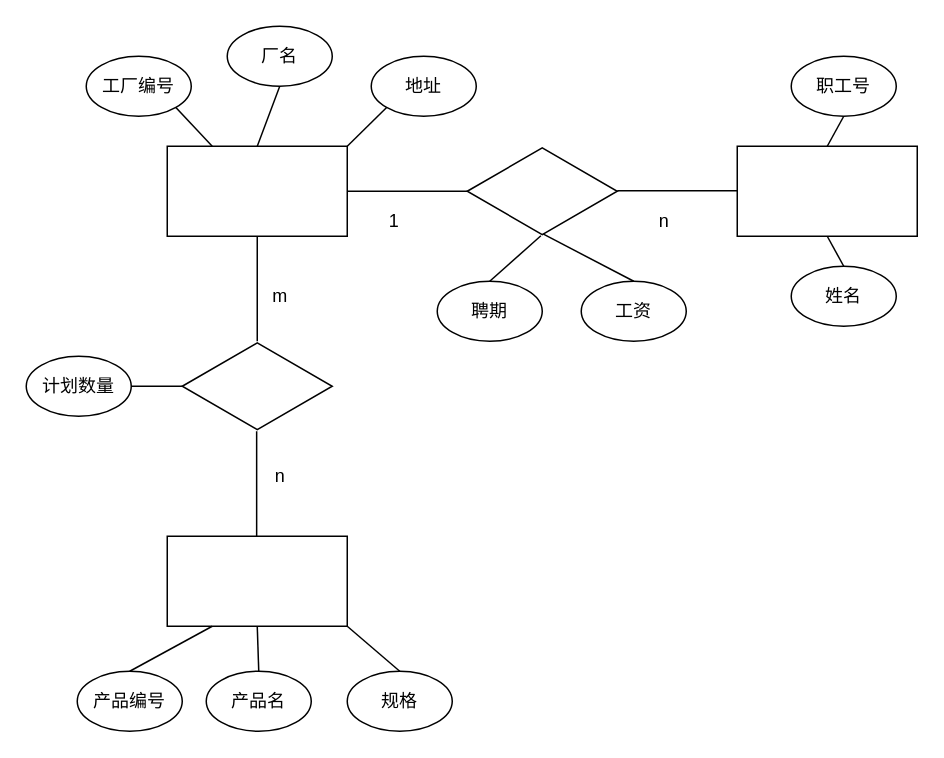
Some shapes in this 944 by 758 pixel diagram are drawn without their labels. The shapes that lost their labels are listed below. From the top down, each one's centre as x and y in pixels, then its label:
At (256,190): "工厂".
At (541,190): "聘用".
At (826,190): "职工".
At (256,385): "生产".
At (256,580): "产品".
